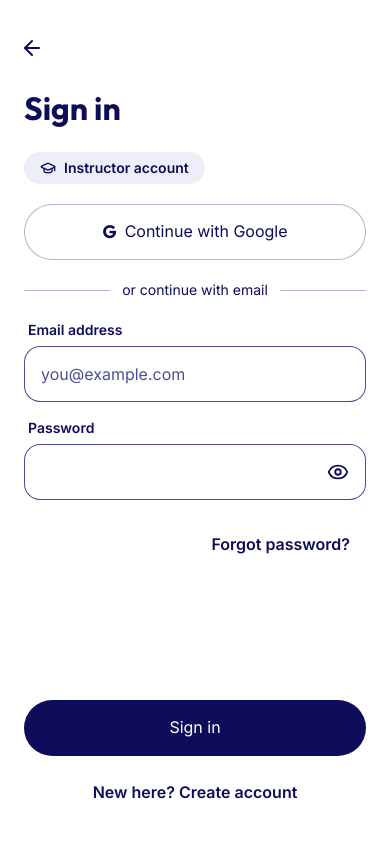
Test: sign in with an unregistered account › shows the not-registered pop-up for an unknown email
Type "ada@example.com" into the field labelled "Email address" at (195, 374), box top-left (24, 346), bottom-right (366, 402)
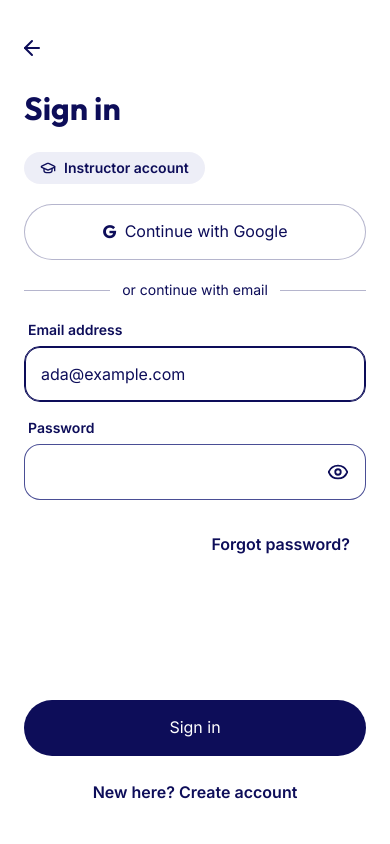
Type "password123" into the password field labelled "Password" at (195, 472), box top-left (24, 444), bottom-right (366, 500)
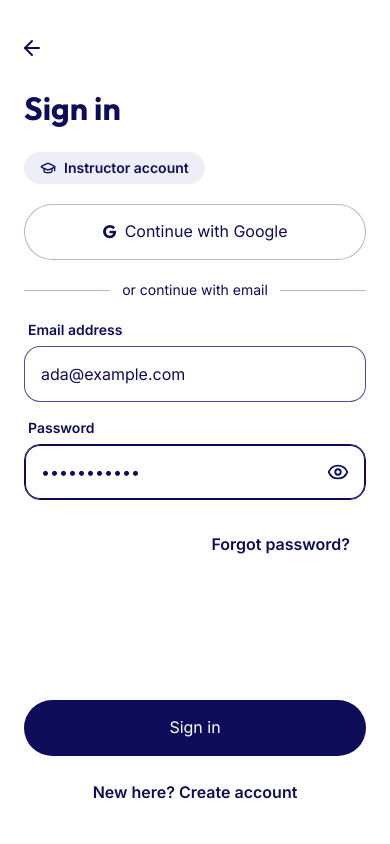
Click the button "Sign in" at (195, 728), box top-left (24, 700), bottom-right (366, 756)
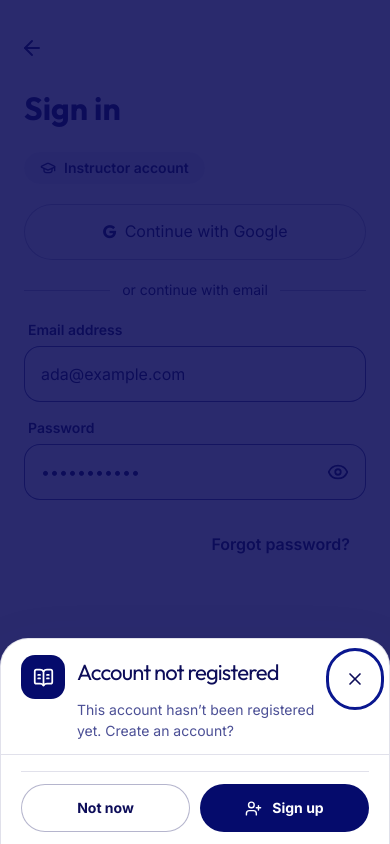
Result: the dialog "Account not registered" shows "This account hasn’t been registered yet. Create an account?" at top-left (77, 701), bottom-right (314, 739)
